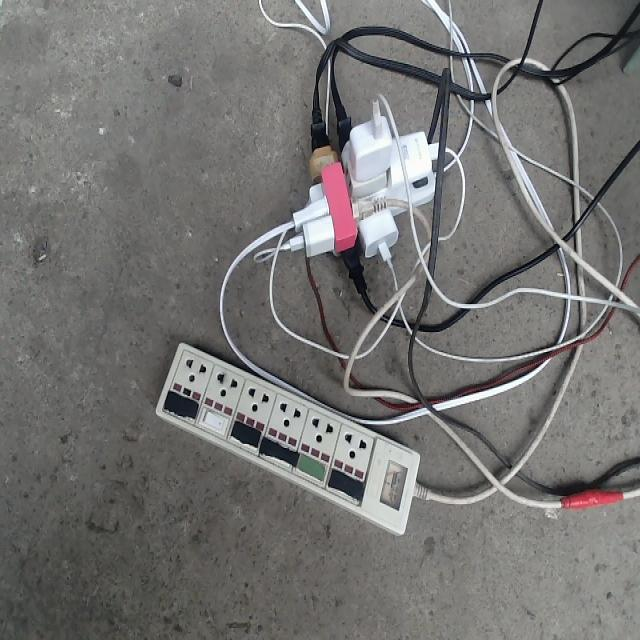-: (287, 107, 445, 261)
